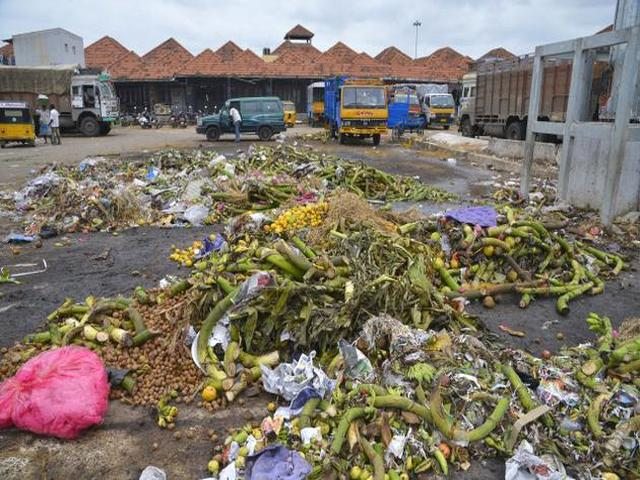garbage: (233, 173, 455, 459)
